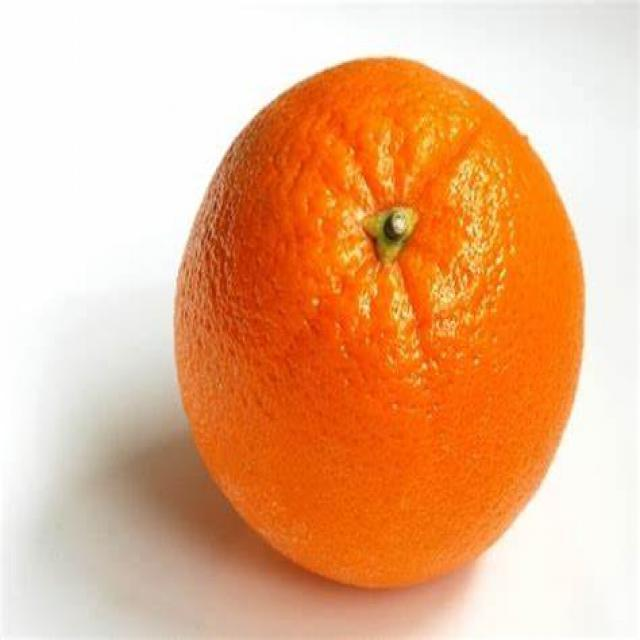Orange: (166, 57, 588, 596)
